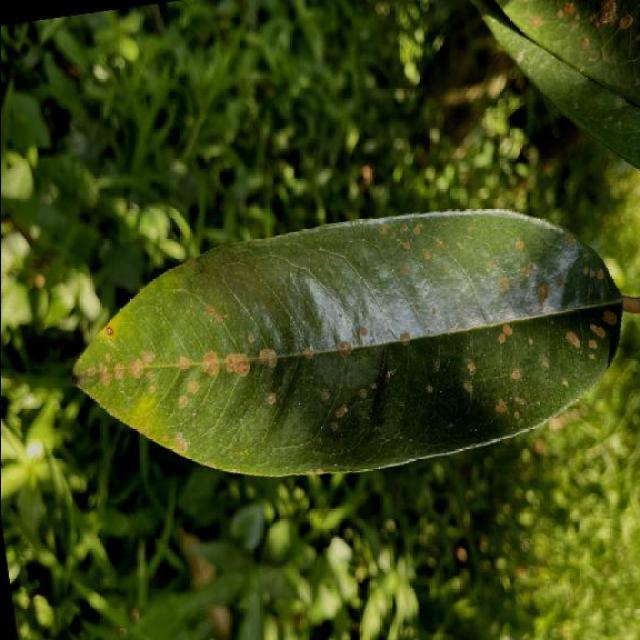Algal Leaf Spot: (48, 176, 640, 520)
